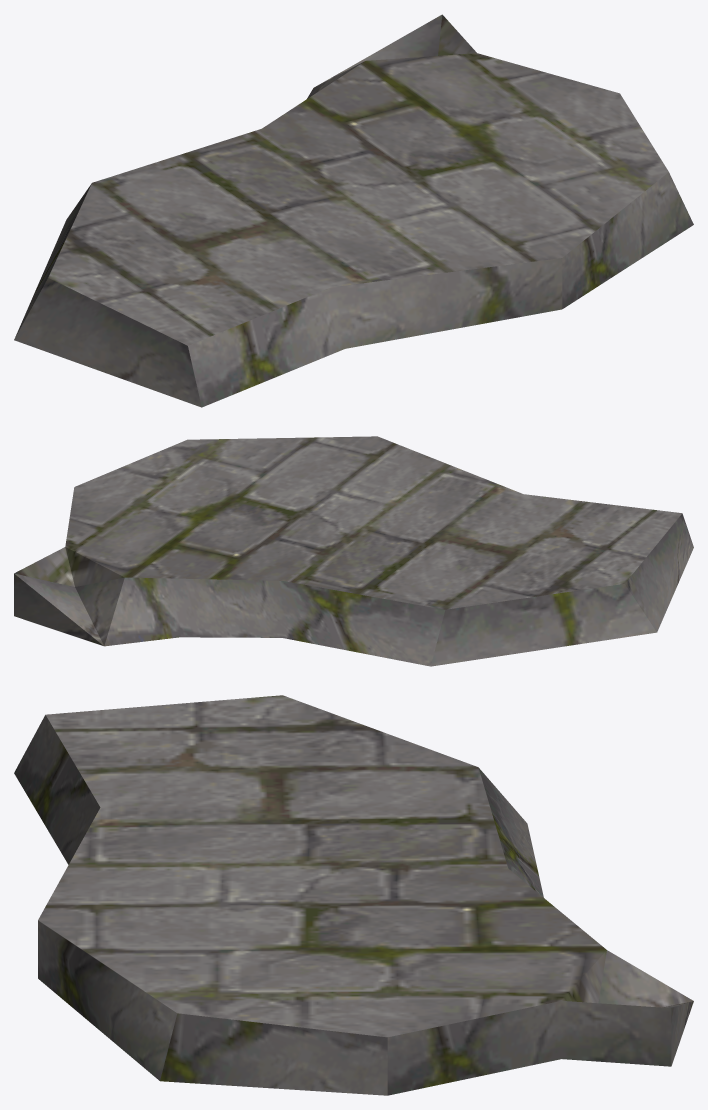
File: 4009_Item_dimian_2.FBX
3 renders of one model, top to bottom at view 1: azimuth 30°, elevation 25°; view 2: azimuth 150°, elevation 25°; view 3: azimuth 270°, elevation 25°, orthographic. The views are drawn at different scales.
Visible parts, largest first — view 1: 4009_Item_dimian_2; view 2: 4009_Item_dimian_2; view 3: 4009_Item_dimian_2.
Part boxes in pixels (bbox=[...]): 4009_Item_dimian_2: bbox=[14, 14, 693, 407]; 4009_Item_dimian_2: bbox=[14, 436, 693, 666]; 4009_Item_dimian_2: bbox=[14, 695, 693, 1095].
Bounding box in the file's own units: 242 × 18.34 × 192.
